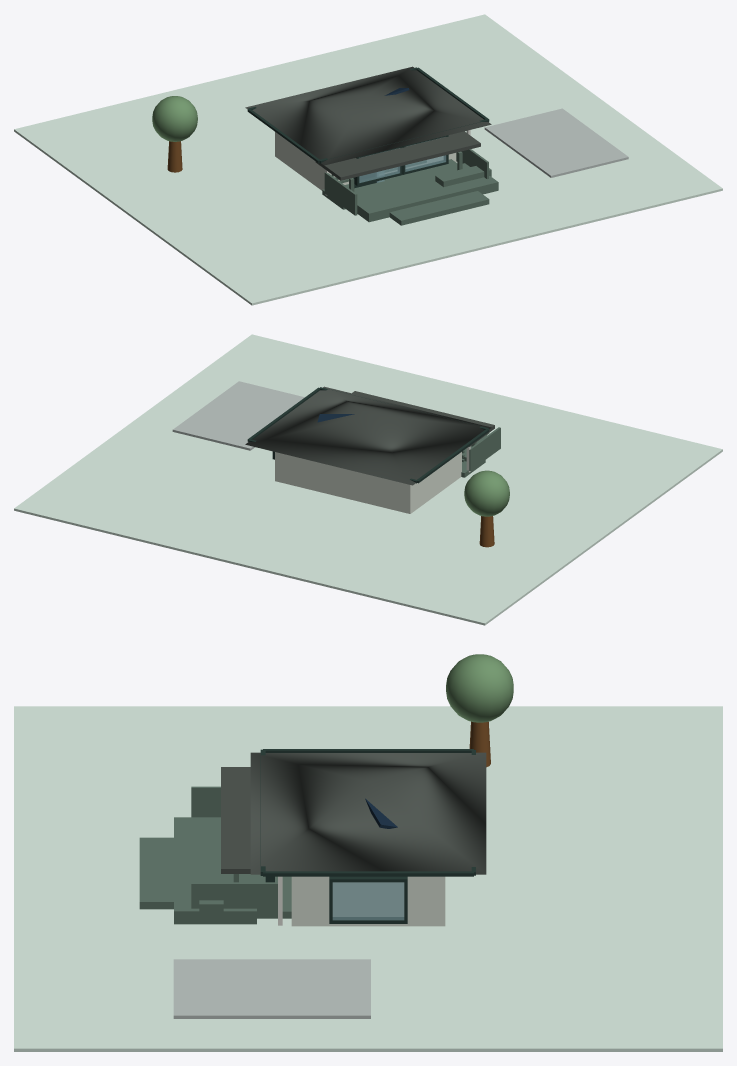
The model's file is generated-shell-pnu-41450-002-yard-porch-hip-forest-timber.glb.
The picture shows the model from 3 angles, top to bottom: view 1: azimuth 30°, elevation 25°; view 2: azimuth 150°, elevation 25°; view 3: azimuth 270°, elevation 25°; orthographic projection. The views are drawn at different scales.
Visible parts, largest first — view 1: IfcSite_ServicePreviewBase, IfcRoof_HipRoof, IfcSpace_ParkingPad, IfcSlab_shell-c1-PNU-41450-002-slab-block-front-deck-1ccdaf6, IfcCovering_DeepPorchCanopy, IfcGeographicElement_GardenTree, IfcSlab_DeckModule, IfcBuildingElementProxy_FloorMass_L1, IfcCovering_PorchRailLeft, IfcCovering_PorchBench, IfcSlab_FrontPorch; view 2: IfcSite_ServicePreviewBase, IfcRoof_HipRoof, IfcBuildingElementProxy_FloorMass_L1, IfcSpace_ParkingPad, IfcGeographicElement_GardenTree, IfcCovering_PorchRailLeft, IfcCovering_DeepPorchCanopy; view 3: IfcSite_ServicePreviewBase, IfcRoof_HipRoof, IfcSpace_ParkingPad, IfcBuildingElementProxy_FloorMass_L1, IfcSlab_shell-c1-PNU-41450-002-slab-block-front-deck-1ccdaf6, IfcGeographicElement_GardenTree, IfcCovering_DeepPorchCanopy, IfcWindow_Glass, IfcSlab_DeckModule, IfcCovering_PorchRailRight, IfcCovering_RoofGutterRight, IfcCovering_PorchRailLeft (+2 smaller).
Boxes of the visible parts, x1,y1,x2,y2 form: IfcSite_ServicePreviewBase: (14,14,722,305); IfcRoof_HipRoof: (245,66,491,165); IfcSpace_ParkingPad: (484,108,628,177); IfcSlab_shell-c1-PNU-41450-002-slab-block-front-deck-1ccdaf6: (354,163,498,222); IfcCovering_DeepPorchCanopy: (315,131,480,180); IfcGeographicElement_GardenTree: (152,96,197,172); IfcSlab_DeckModule: (389,191,489,225); IfcBuildingElementProxy_FloorMass_L1: (275,132,456,190); IfcCovering_PorchRailLeft: (324,172,357,215); IfcCovering_PorchBench: (435,166,491,187); IfcSlab_FrontPorch: (322,159,457,209); IfcSite_ServicePreviewBase: (14,334,722,625); IfcRoof_HipRoof: (245,386,491,485); IfcBuildingElementProxy_FloorMass_L1: (275,452,461,513); IfcSpace_ParkingPad: (172,381,304,450); IfcGeographicElement_GardenTree: (464,470,509,547); IfcCovering_PorchRailLeft: (469,427,500,470); IfcCovering_DeepPorchCanopy: (352,391,494,446); IfcSite_ServicePreviewBase: (14,706,722,1051); IfcRoof_HipRoof: (250,752,486,874); IfcSpace_ParkingPad: (173,959,370,1018); IfcBuildingElementProxy_FloorMass_L1: (291,876,445,926); IfcSlab_shell-c1-PNU-41450-002-slab-block-front-deck-1ccdaf6: (174,817,256,924); IfcGeographicElement_GardenTree: (446,654,513,767); IfcCovering_DeepPorchCanopy: (221,767,250,873); IfcWindow_Glass: (332,882,404,920); IfcSlab_DeckModule: (139,837,173,909); IfcCovering_PorchRailRight: (191,882,277,914); IfcCovering_RoofGutterRight: (263,871,473,876); IfcCovering_PorchRailLeft: (191,786,220,817).
Size of the model in its own units: 32 by 4.96 by 28.
